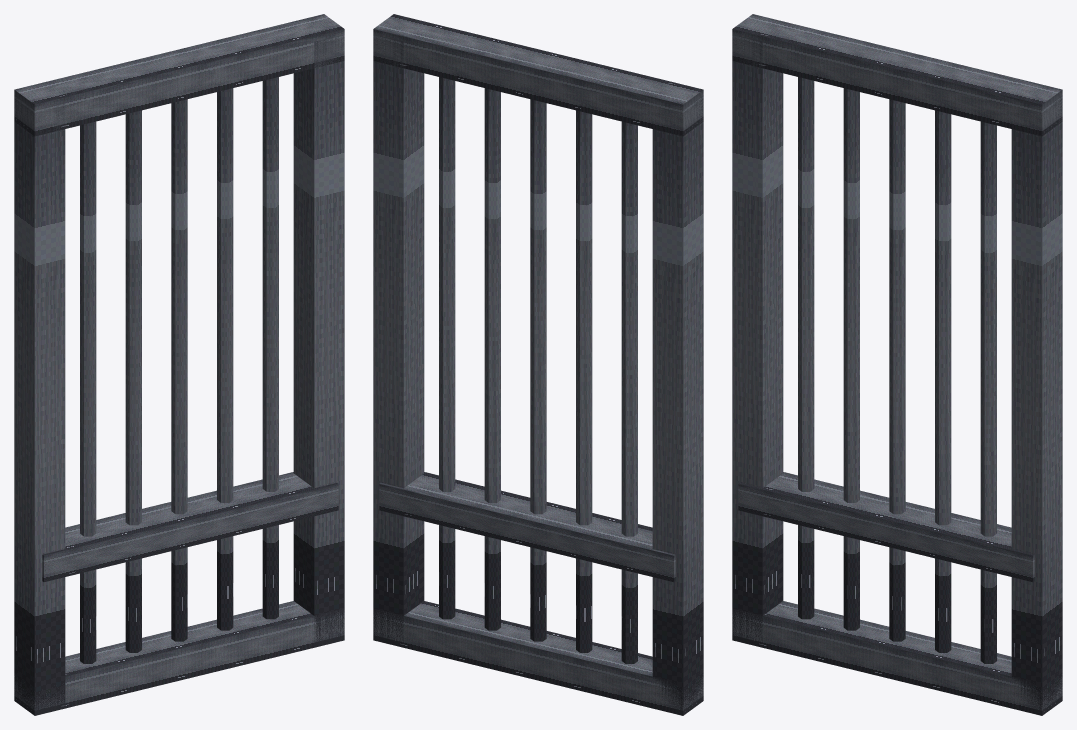
Rendered from prisao_porta_de_cela_comum.glb.
3 views of the same model, side by side, from view 1: azimuth 30°, elevation 25°; view 2: azimuth 150°, elevation 25°; view 3: azimuth 330°, elevation 25° (orthographic).
Parts seen in each view (by area): view 1: prisao_porta_de_cela_comum; view 2: prisao_porta_de_cela_comum; view 3: prisao_porta_de_cela_comum.
Part boxes in pixels (x1,y1,x2,y2): prisao_porta_de_cela_comum: [14, 14, 344, 715]; prisao_porta_de_cela_comum: [373, 14, 703, 715]; prisao_porta_de_cela_comum: [732, 14, 1062, 715].
Bounding box in the file's own units: 1.22 × 2.3 × 0.16.
Materials: 1 (1 with a texture image).
